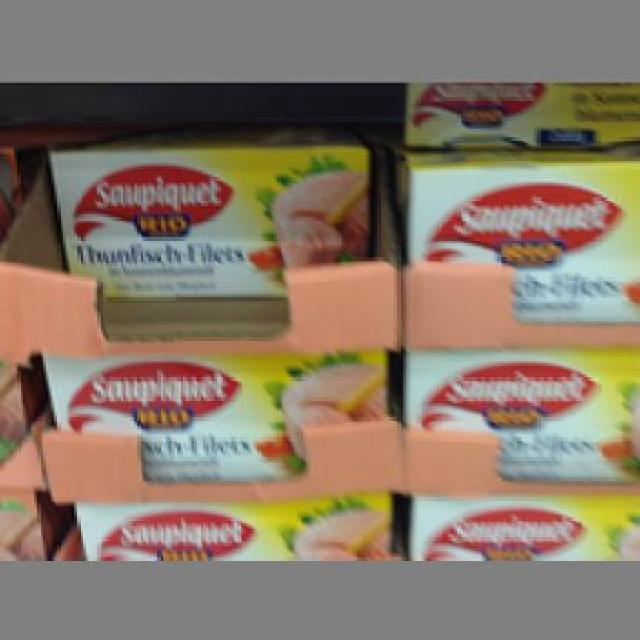Fish: (46, 134, 366, 294), (31, 348, 388, 478), (397, 146, 637, 320), (400, 348, 637, 478)
